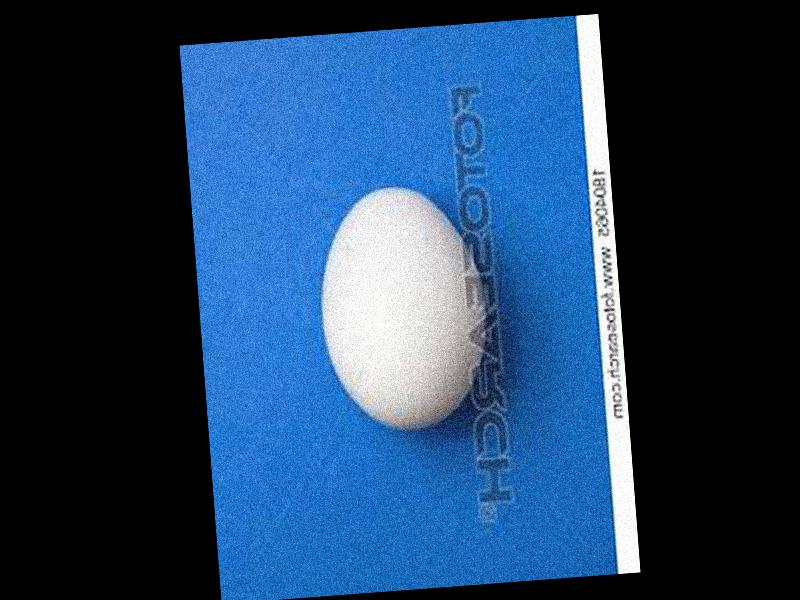Eggs: (313, 181, 498, 435)
